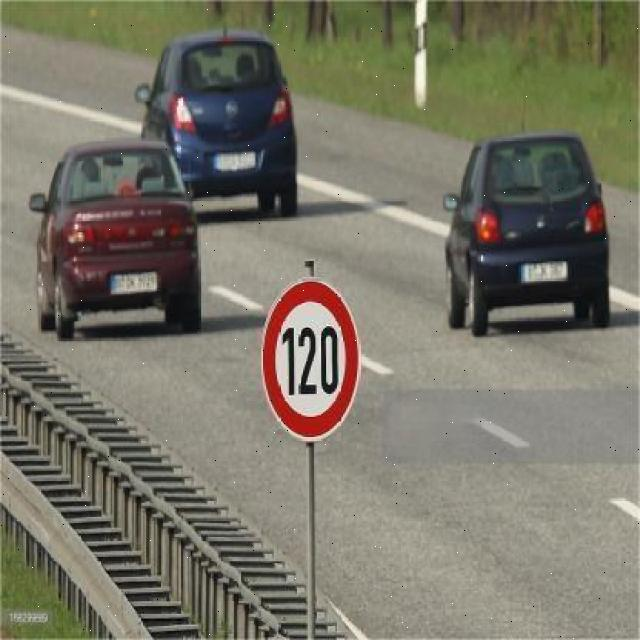speed limit 120: (261, 278, 361, 440)
